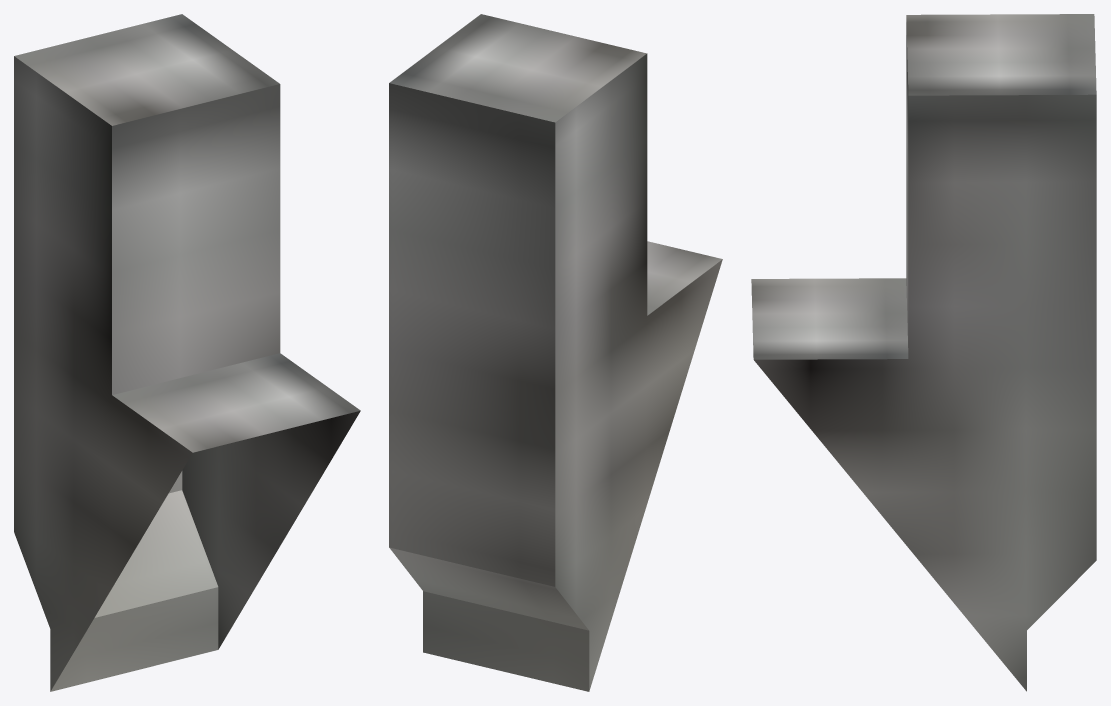
The model's file is euroB_09.glb.
The picture shows the model from 3 angles, left to right: view 1: azimuth 30°, elevation 25°; view 2: azimuth 150°, elevation 25°; view 3: azimuth 270°, elevation 25°; orthographic projection. The views are drawn at different scales.
Parts seen in each view (by area): view 1: geometry_0; view 2: geometry_0; view 3: geometry_0.
Boxes of the visible parts, left/top/right/bottom form: geometry_0: left=14, top=14, right=360, bottom=691; geometry_0: left=389, top=14, right=722, bottom=691; geometry_0: left=751, top=14, right=1096, bottom=691.
Bounding box in the file's own units: 0.4638 × 1.57 × 0.8208.
Materials: 1 (1 with a texture image).
